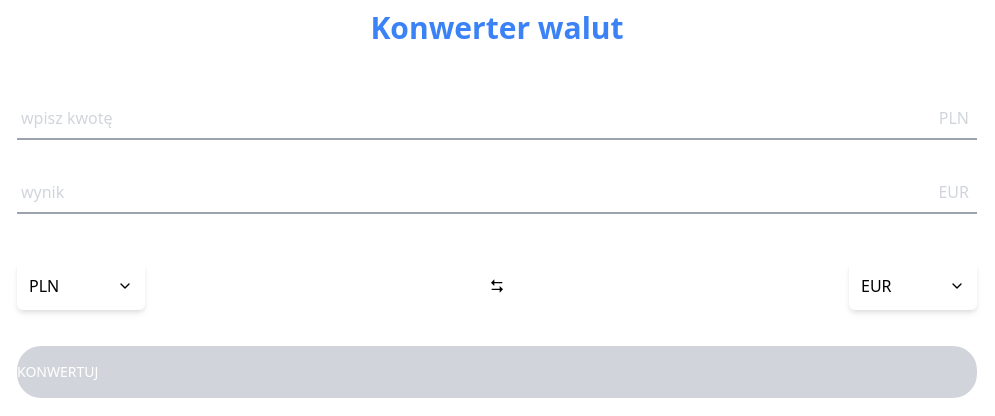
form exchange › single input typing string › after typing string in first input and submit should show first error
Expected: the field with test id "secondInputForm" is empty, [17,180,977,214]
Type "example" into the field with test id "firstInputForm" at (497, 119), box [17,98,977,140]
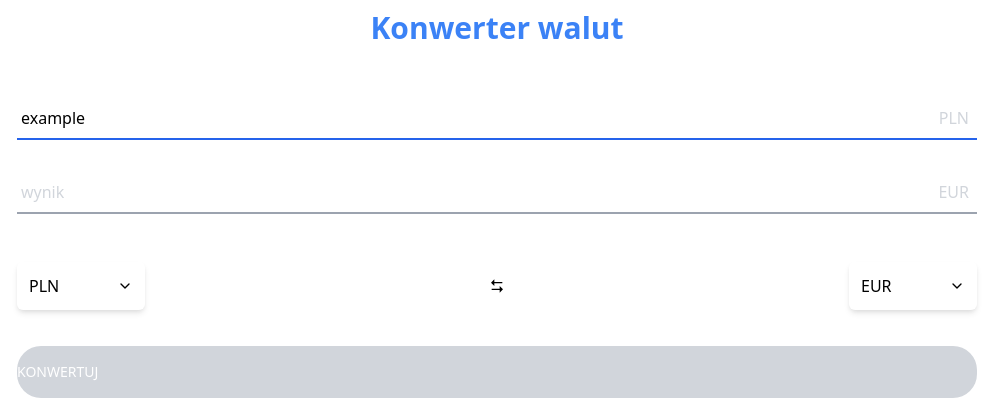
Click the button with test id "buttonSubmitForm" at (497, 372), box [17,346,977,398]
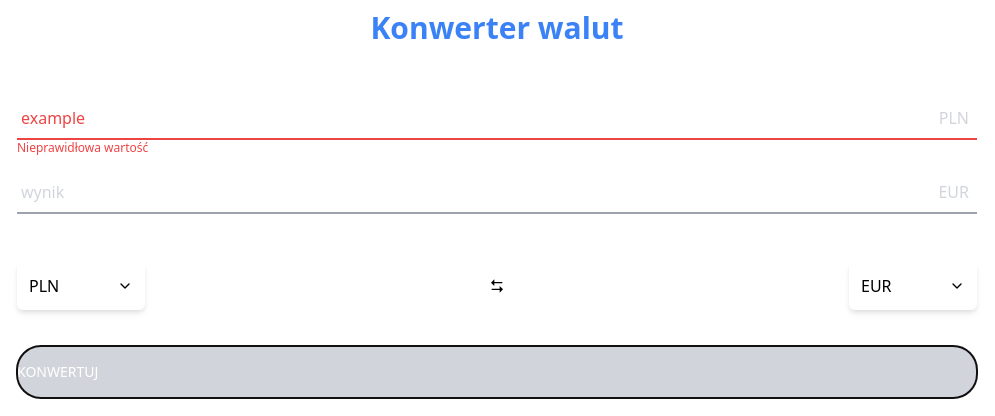
Expected: the field with test id "secondInputForm" is empty, [17,180,977,214]
Result: the text with test id "firstInputError" reads "Nieprawidłowa wartość" at [17,139,148,156]
